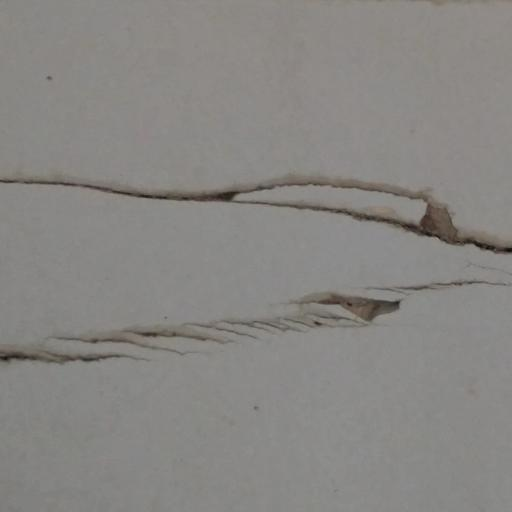major_crack: (0, 146, 512, 375)
